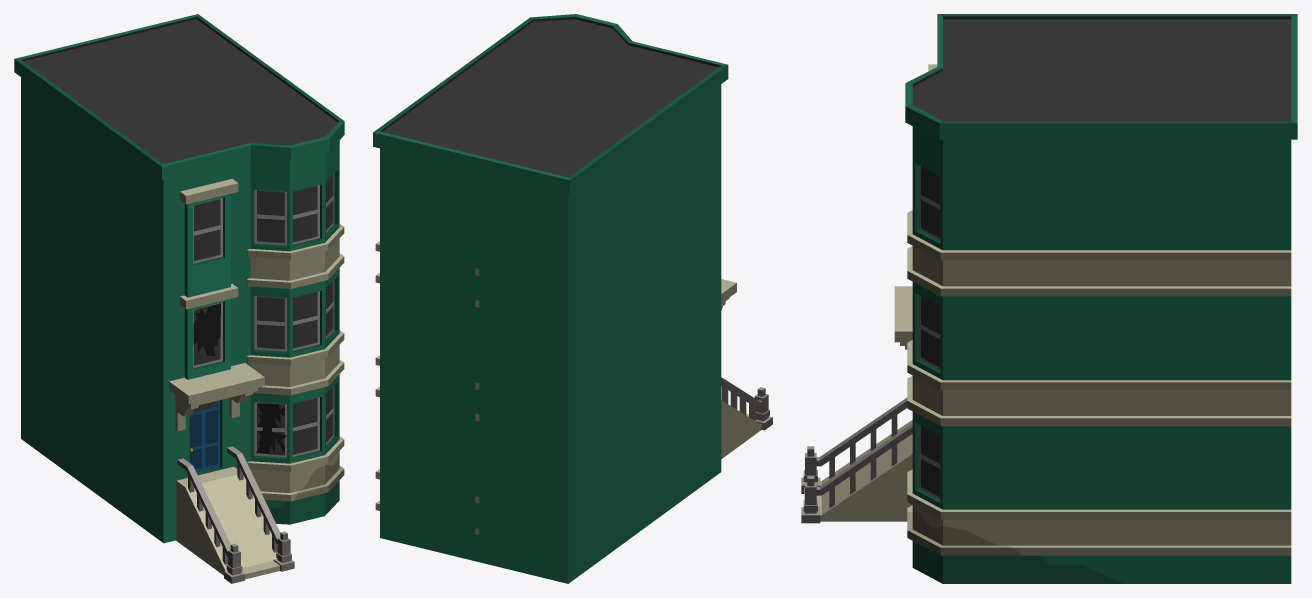
File: SA_Bld_TownHouse_01.glb
3 views of the same model, side by side, from view 1: azimuth 30°, elevation 25°; view 2: azimuth 150°, elevation 25°; view 3: azimuth 270°, elevation 25° (orthographic). The views are drawn at different scales.
Visible parts, largest first — view 1: SA_Bld_TownHouse_01; view 2: SA_Bld_TownHouse_01; view 3: SA_Bld_TownHouse_01.
Part boxes in pixels (x1,y1,x2,y2): SA_Bld_TownHouse_01: (14, 14, 344, 583); SA_Bld_TownHouse_01: (373, 14, 772, 583); SA_Bld_TownHouse_01: (801, 14, 1297, 583).
Bounding box in the file's own units: 3.95 × 7.8 × 7.57.
Materials: 1 (1 with a texture image).
